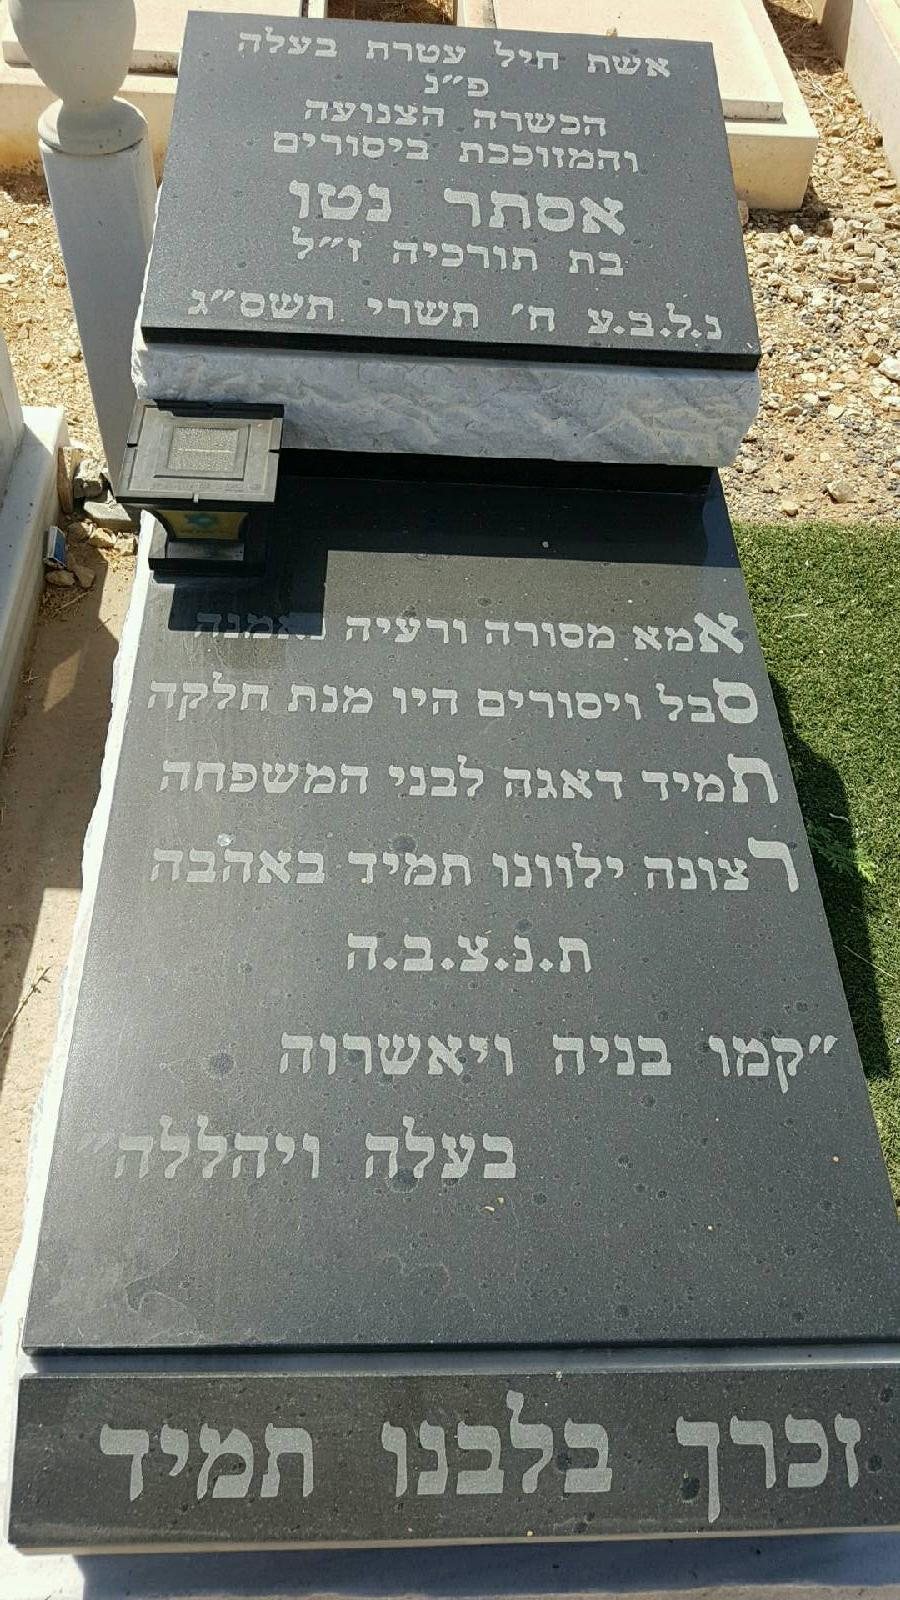vault: (1, 10, 900, 1558)
